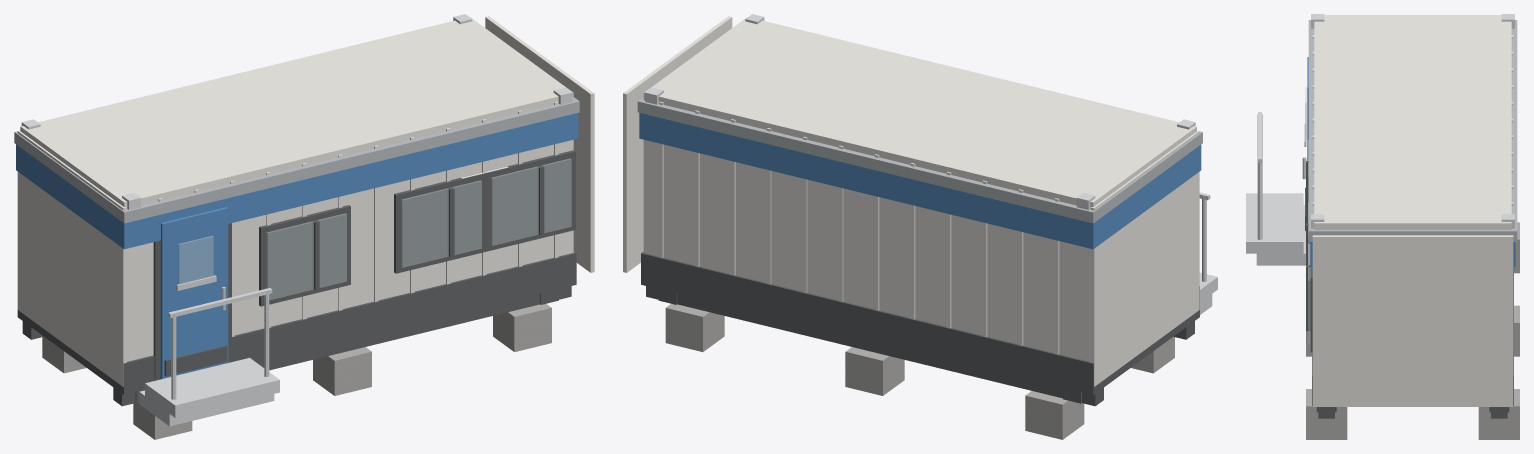
The model's file is sitecabin.glb.
The picture shows the model from 3 angles, left to right: view 1: azimuth 30°, elevation 25°; view 2: azimuth 150°, elevation 25°; view 3: azimuth 270°, elevation 25°; orthographic projection. The views are drawn at different scales.
Parts seen in each view (by area): view 1: demolition-and-site-clearance-site-cabin-on-blocks, cabin-door/blue, cabin-door/glass, cabin-door/charcoal; view 2: demolition-and-site-clearance-site-cabin-on-blocks; view 3: demolition-and-site-clearance-site-cabin-on-blocks.
Boxes of the visible parts, <box> form: demolition-and-site-clearance-site-cabin-on-blocks: <box>14,14,594,439</box>; cabin-door/blue: <box>160,207,228,378</box>; cabin-door/glass: <box>178,235,213,284</box>; cabin-door/charcoal: <box>164,345,227,376</box>; demolition-and-site-clearance-site-cabin-on-blocks: <box>623,14,1217,439</box>; demolition-and-site-clearance-site-cabin-on-blocks: <box>1246,14,1519,439</box>.
Size of the model in its own units: 6.31 by 3.1 by 3.33.
Materials: 7 (1 with a texture image).
